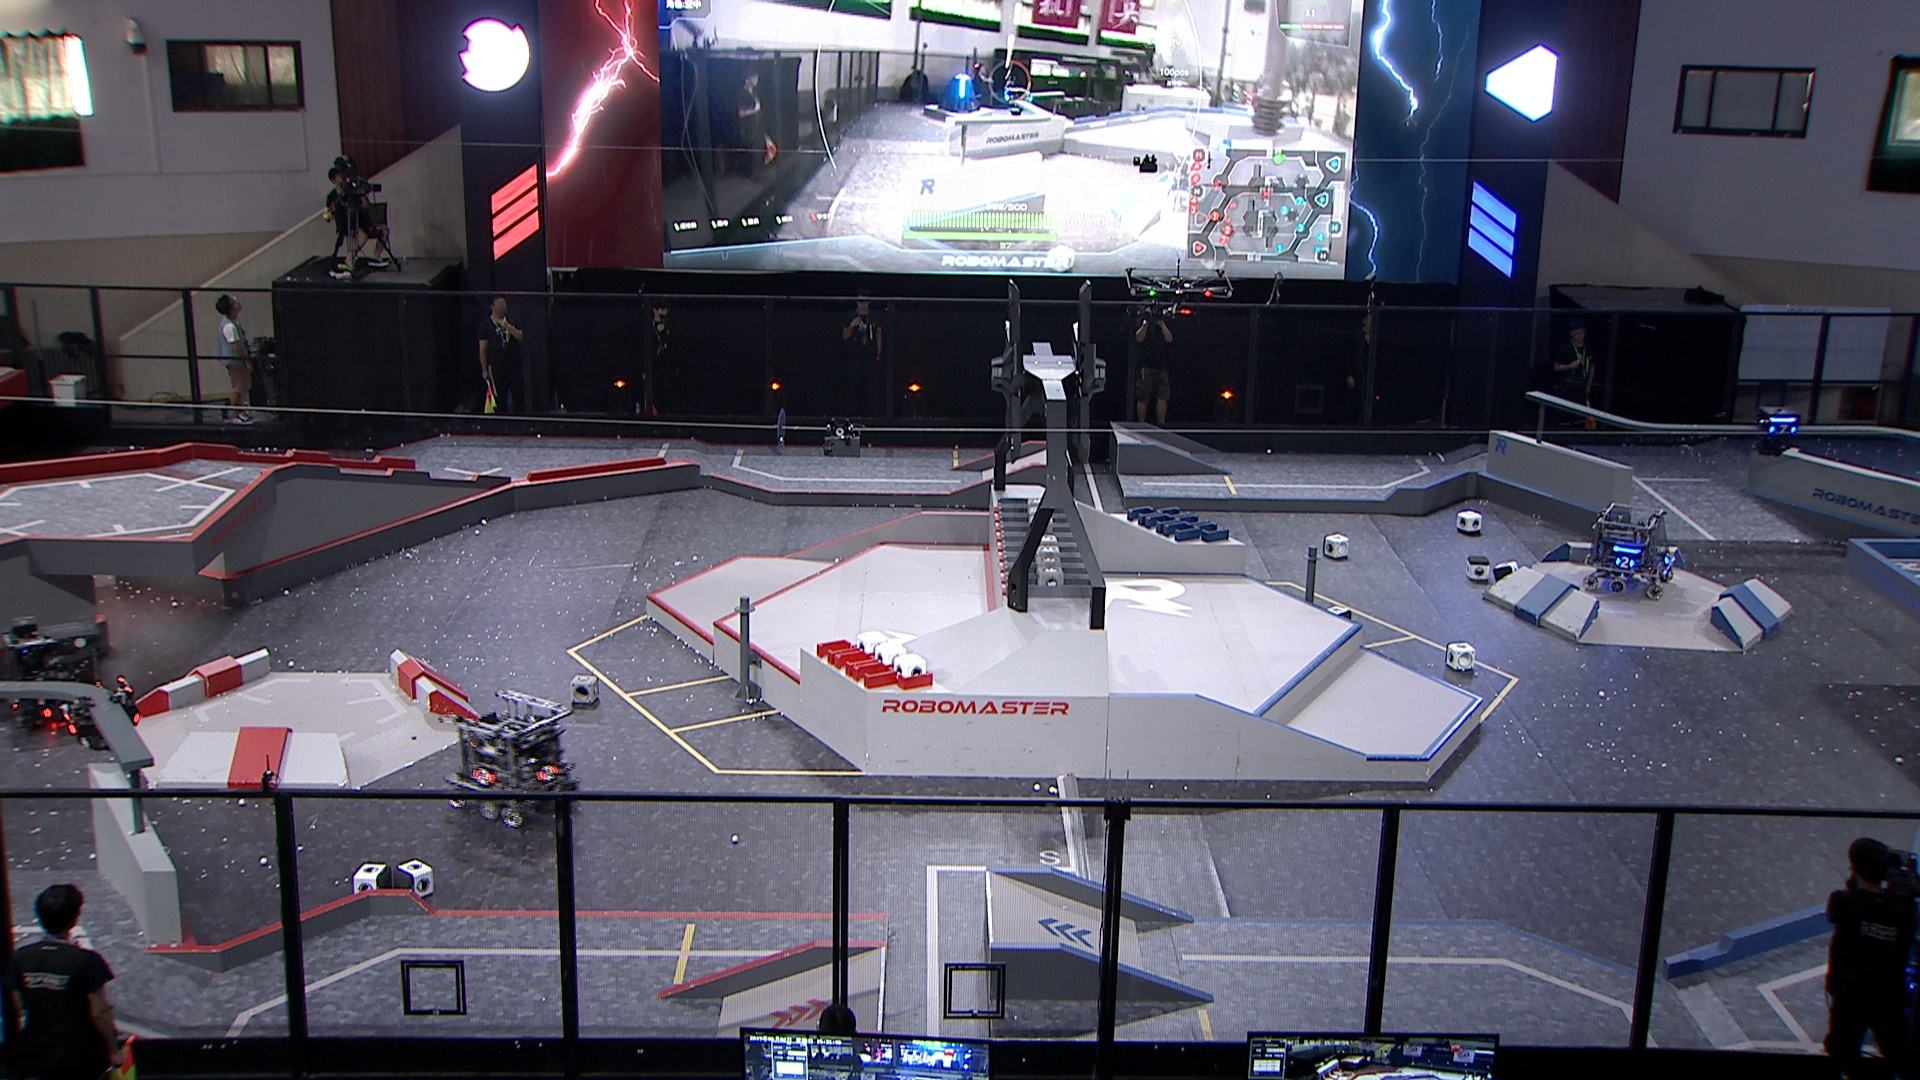armor: (41, 699, 76, 723), (467, 764, 498, 789), (534, 764, 564, 785), (62, 709, 82, 738), (1768, 422, 1803, 438), (1613, 553, 1636, 570), (1659, 547, 1676, 568)
car: (442, 690, 584, 828), (3, 618, 117, 736), (1581, 498, 1679, 600)
ignore: (939, 73, 982, 112), (1004, 83, 1035, 117)
watcher: (62, 673, 142, 756), (1751, 407, 1804, 458)
